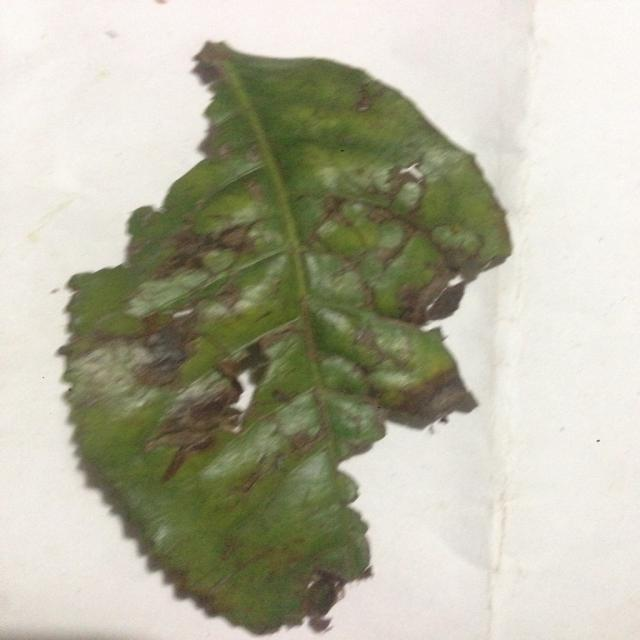Red Leaf Spot: (57, 32, 528, 635)
